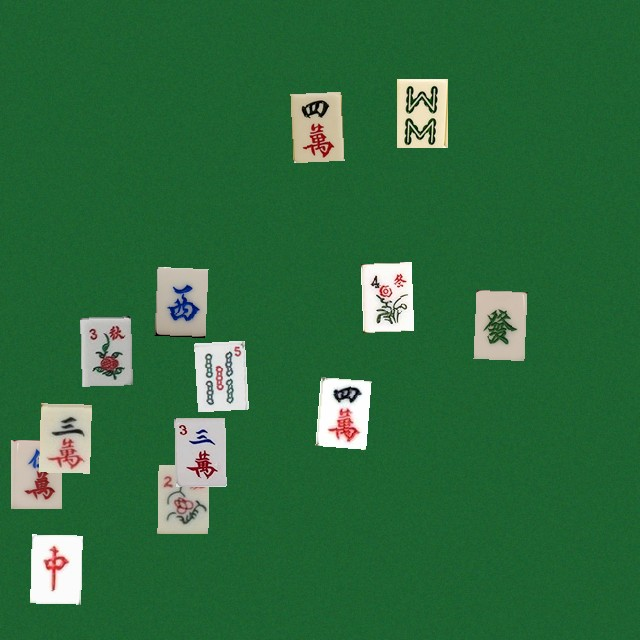tile: (10, 439, 61, 508), (315, 377, 366, 446), (396, 78, 447, 147), (473, 289, 524, 358), (157, 464, 208, 533), (80, 316, 131, 385), (30, 534, 81, 603), (174, 417, 225, 486), (194, 340, 245, 409), (154, 266, 205, 335), (290, 91, 341, 160), (360, 262, 411, 331), (39, 403, 90, 472)
